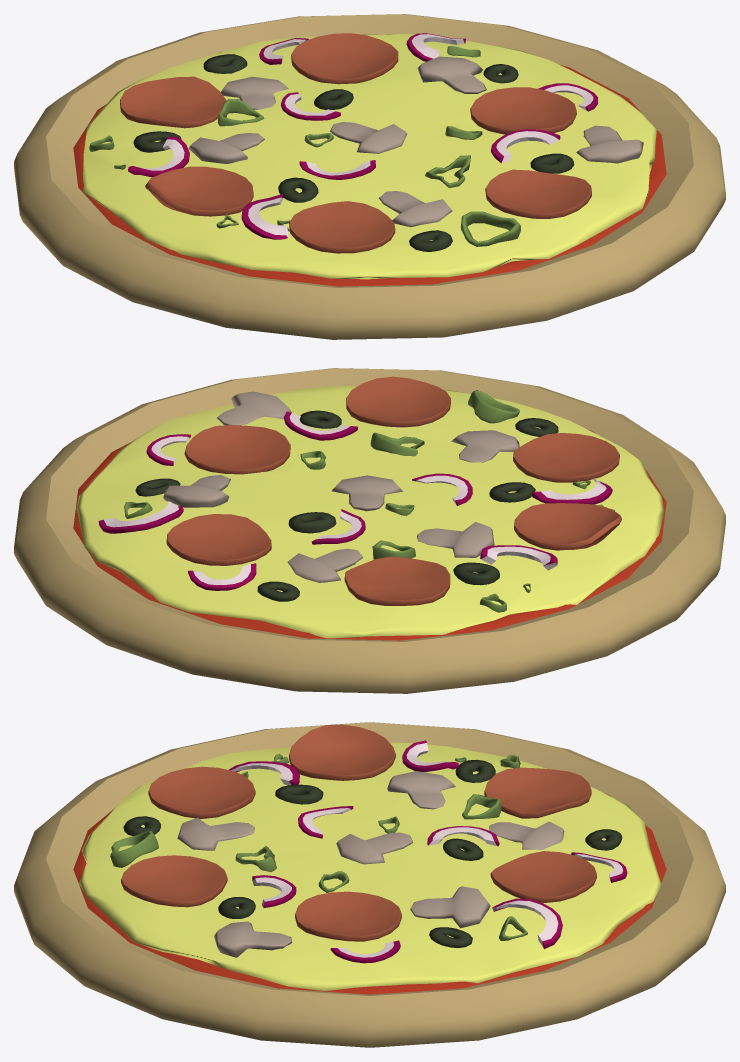
The model's file is cheese.glb.
3 views of the same model, one above another, from view 1: azimuth 30°, elevation 25°; view 2: azimuth 150°, elevation 25°; view 3: azimuth 270°, elevation 25° (orthographic).
Visible parts, largest first — view 1: pCylinder1, pCylinder13, polySurface143, polySurface147, polySurface145, polySurface146, polySurface144, polySurface142, polySurface128, polySurface162, polySurface129, polySurface163 (+20 smaller); view 2: pCylinder1, pCylinder13, polySurface147, polySurface142, polySurface145, polySurface144, polySurface143, polySurface146, polySurface130, polySurface162, polySurface161, polySurface128 (+20 smaller); view 3: pCylinder1, pCylinder13, polySurface146, polySurface144, polySurface143, polySurface142, polySurface145, polySurface147, polySurface128, polySurface162, polySurface130, polySurface163 (+20 smaller).
Part boxes in pixels (x1,y1,x2,y2): pCylinder1: (14,14,725,339); pCylinder13: (82,34,656,279); polySurface143: (289,201,395,253); polySurface147: (291,33,398,84); polySurface145: (120,76,226,128); polySurface146: (145,166,253,216); polySurface144: (485,169,591,218); polySurface142: (470,87,576,134); polySurface128: (417,56,486,93); polySurface162: (576,125,643,163); polySurface129: (379,191,452,227); polySurface163: (330,122,406,153); pCylinder1: (14,368,725,693); pCylinder13: (76,386,664,638); polySurface147: (166,514,271,565); polySurface142: (184,425,290,474); polySurface145: (344,556,450,605); polySurface144: (346,376,450,427); polySurface143: (513,433,619,482); polySurface146: (514,503,621,550); polySurface130: (416,522,494,557); polySurface162: (217,391,291,425); polySurface161: (287,548,362,582); polySurface128: (163,475,230,507); pCylinder1: (14,722,725,1047); pCylinder13: (79,742,661,990); polySurface146: (289,724,395,780); polySurface144: (121,855,227,907); polySurface143: (148,766,255,818); polySurface142: (295,891,401,941); polySurface145: (484,767,591,818); polySurface147: (490,851,596,902); polySurface128: (410,886,490,928); polySurface162: (214,921,291,957); polySurface130: (387,771,455,809); polySurface163: (336,832,413,864).
Size of the model in its own units: 0.1 by 0.0105 by 0.1.
